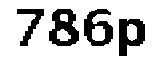6: (82, 7, 115, 49)
7: (13, 6, 46, 47)
8: (47, 7, 80, 48)
p: (116, 15, 150, 60)
